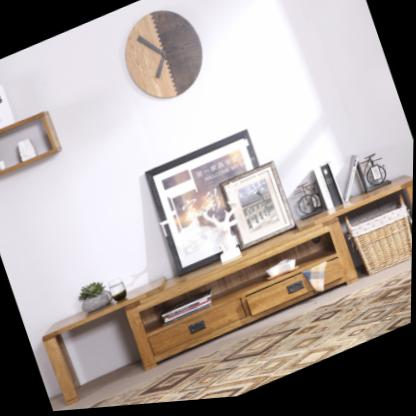TV stand: (35, 168, 414, 413)
